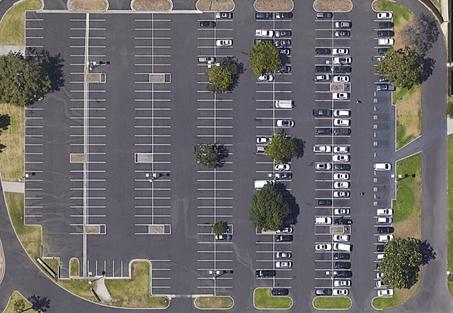parkingspot: (313, 10, 334, 298), (85, 81, 108, 226), (133, 12, 154, 155), (271, 162, 293, 298), (152, 82, 172, 226), (68, 12, 88, 155), (196, 161, 216, 297), (196, 10, 216, 146), (214, 90, 234, 226), (332, 91, 352, 226), (255, 73, 276, 194), (24, 99, 44, 226), (274, 11, 293, 138), (372, 199, 393, 298), (372, 11, 394, 93), (134, 162, 154, 235), (332, 11, 352, 84), (87, 11, 108, 75), (214, 233, 234, 297), (332, 234, 352, 298), (152, 12, 172, 75), (214, 10, 235, 65), (254, 234, 275, 288), (69, 162, 84, 234), (24, 10, 46, 57), (78, 259, 130, 278), (150, 260, 172, 296), (254, 11, 275, 48), (372, 175, 392, 195), (372, 113, 392, 132), (58, 256, 71, 280), (372, 138, 391, 149), (372, 95, 390, 106), (373, 162, 392, 172)
